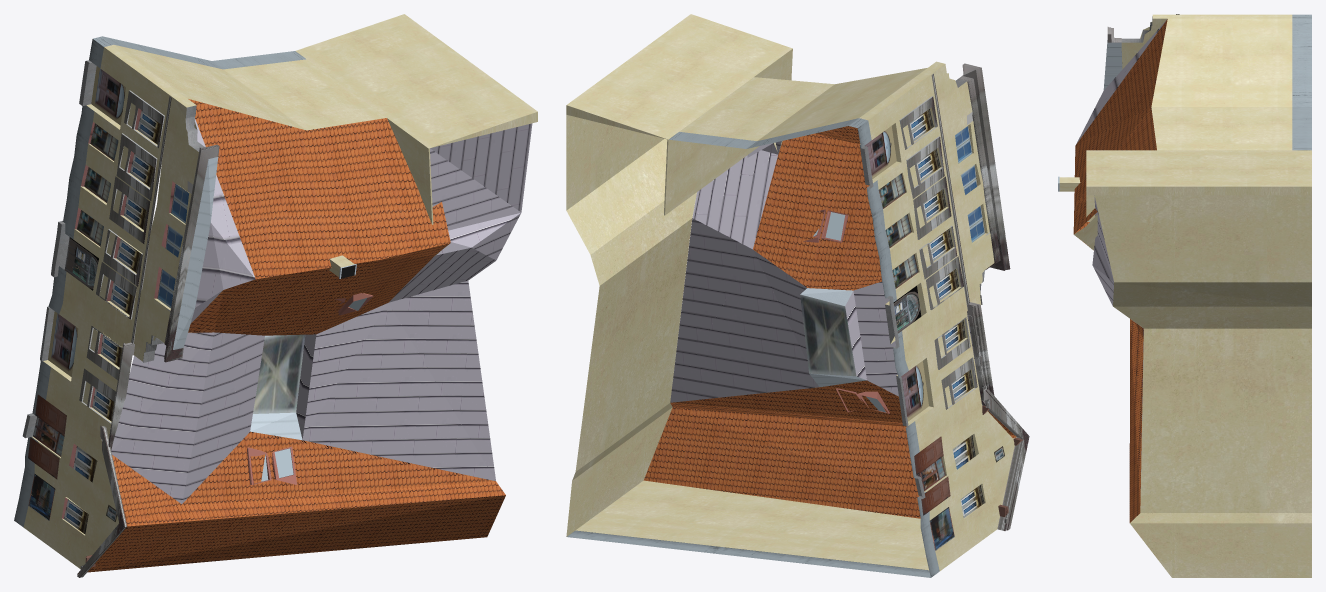
Rendered from Vana-Viru_6-origo.obj.
The picture shows the model from 3 angles, left to right: view 1: azimuth 30°, elevation 25°; view 2: azimuth 150°, elevation 25°; view 3: azimuth 270°, elevation 25°; orthographic projection. The views are drawn at different scales.
Parts seen in each view (by area): view 1: Line009; view 2: Line009; view 3: Line009.
Boxes of the visible parts, x1=… form: Line009: x1=14, y1=14, x2=537, y2=577; Line009: x1=566, y1=14, x2=1029, y2=577; Line009: x1=1058, y1=14, x2=1311, y2=577.
Bounding box in the file's own units: 20.38 × 25 × 13.23.
